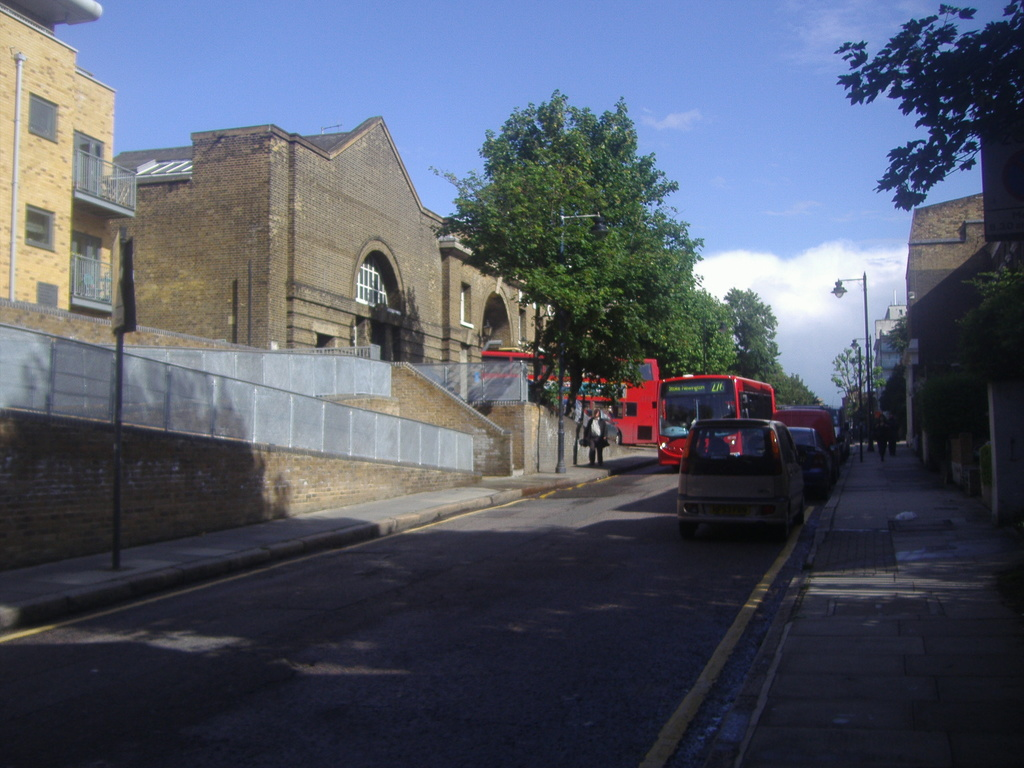mobil: (681, 412, 809, 534)
